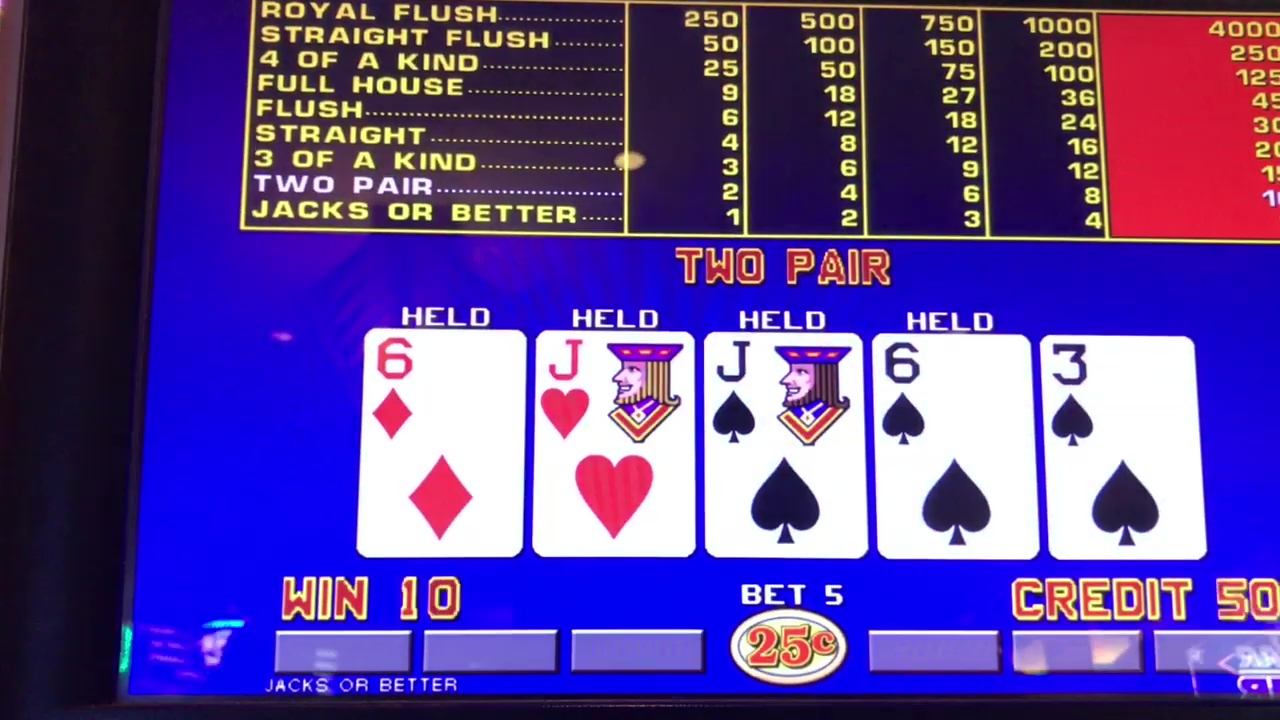D6: (366, 327, 519, 442)
HJ: (537, 331, 692, 443)
S3: (1049, 339, 1192, 445)
S6: (878, 336, 1025, 443)
SJ: (708, 334, 861, 446)
